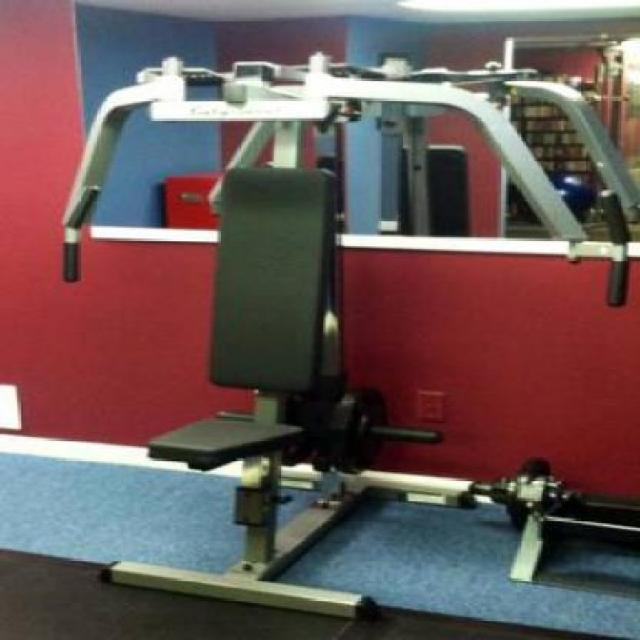chest fly machine: (35, 46, 640, 628)
